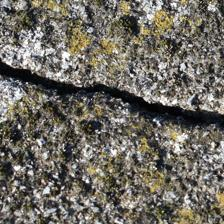Crack: (4, 52, 223, 132)
